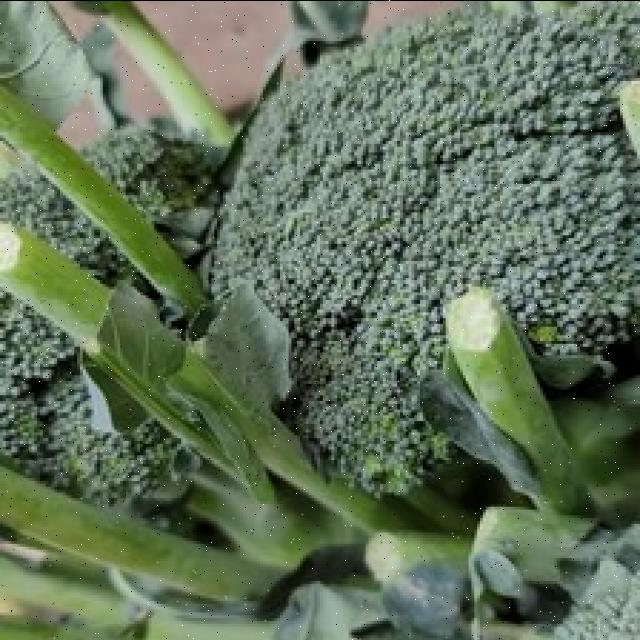Broccoli: (212, 14, 640, 490), (214, 14, 640, 489), (0, 291, 176, 505), (0, 291, 176, 504), (0, 171, 143, 288), (0, 171, 143, 288), (82, 128, 214, 219), (82, 128, 214, 219)
